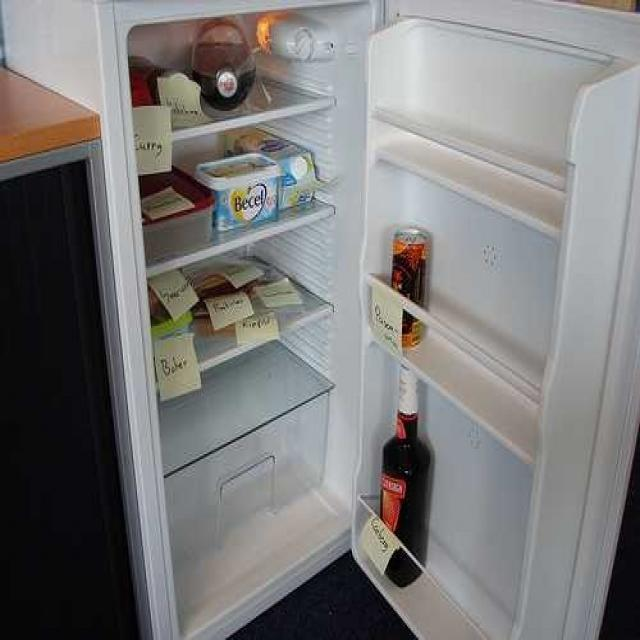refrigerator: (96, 0, 588, 640)
